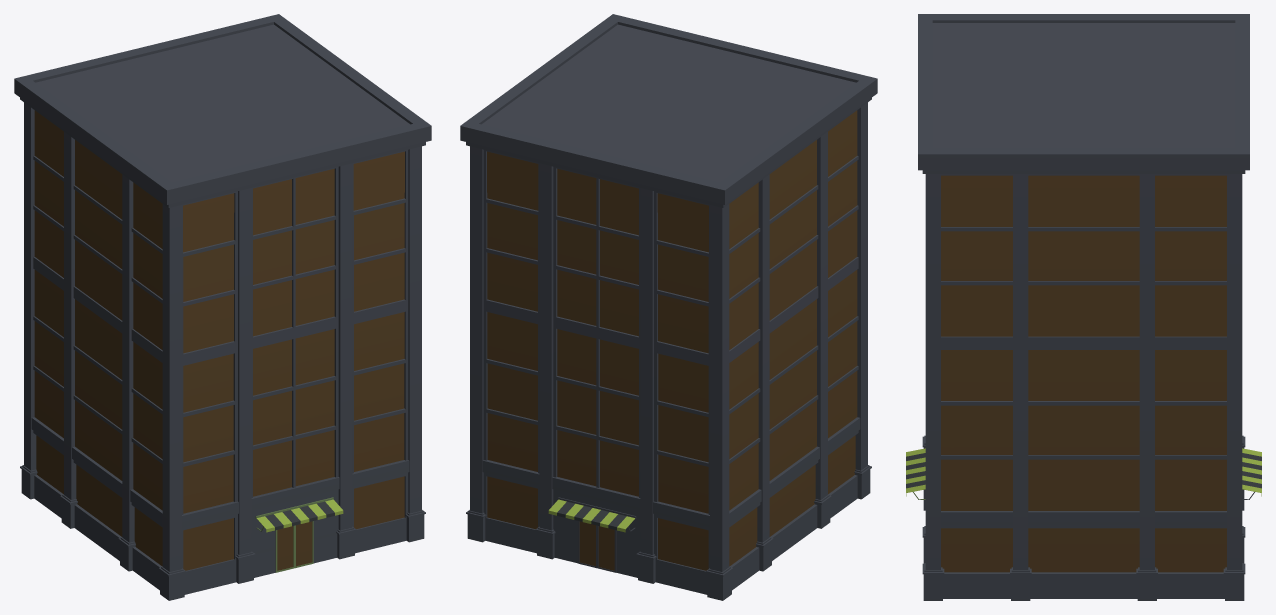
Rendered from House_23.fbx.
The picture shows the model from 3 angles, left to right: view 1: azimuth 30°, elevation 25°; view 2: azimuth 150°, elevation 25°; view 3: azimuth 270°, elevation 25°; orthographic projection. The views are drawn at different scales.
Visible parts, largest first — view 1: House_23; view 2: House_23; view 3: House_23.
Part boxes in pixels (x1,y1,x2,y2): House_23: (14,14,431,600); House_23: (460,14,877,600); House_23: (906,14,1261,600).
Bounding box in the file's own units: 12.06 × 18 × 12.93.
